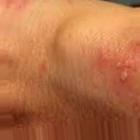Ants: (116, 59, 132, 85)
